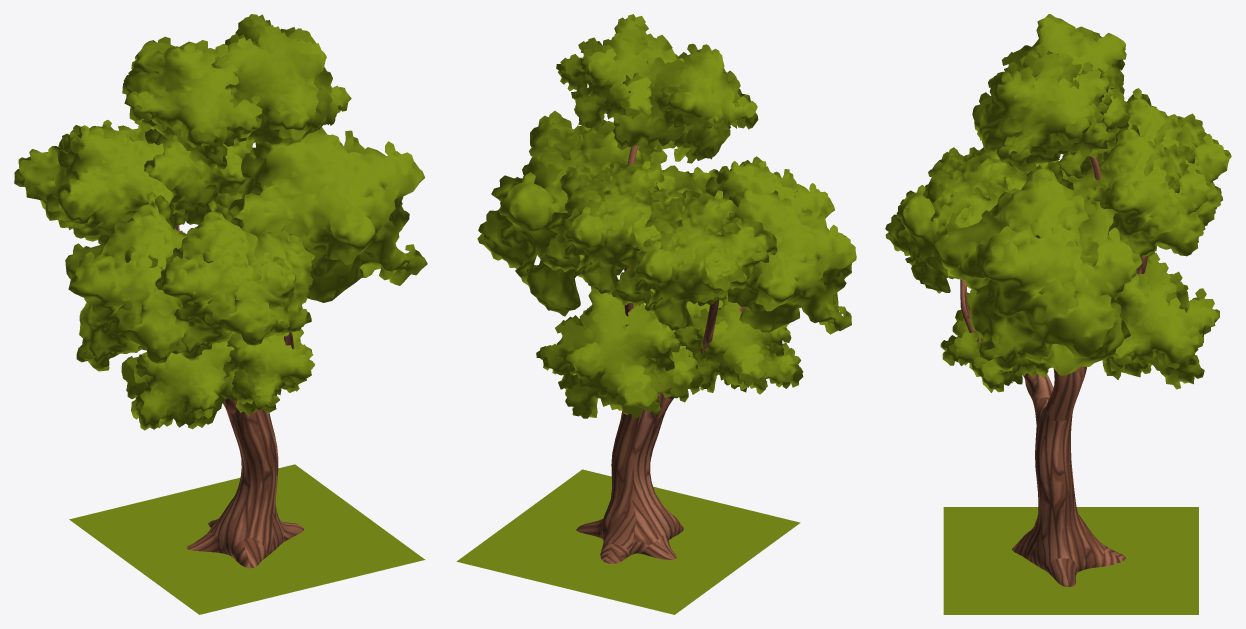
File: stylized tree.fbx
The picture shows the model from 3 angles, left to right: view 1: azimuth 30°, elevation 25°; view 2: azimuth 150°, elevation 25°; view 3: azimuth 270°, elevation 25°; orthographic projection. The views are drawn at different scales.
Visible parts, largest first — view 1: Plane.002; view 2: Plane.002; view 3: Plane.002.
Part boxes in pixels (x1=…): Plane.002: x1=14, y1=14, x2=427, y2=614; Plane.002: x1=456, y1=14, x2=856, y2=614; Plane.002: x1=885, y1=14, x2=1231, y2=614.
Size of the model in its own units: 791 by 1171 by 694.
Materials: 2 (1 with a texture image).
